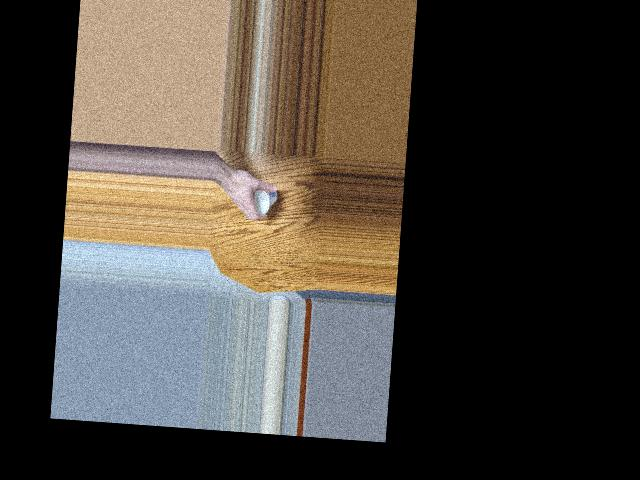cotage: (250, 180, 277, 214)
